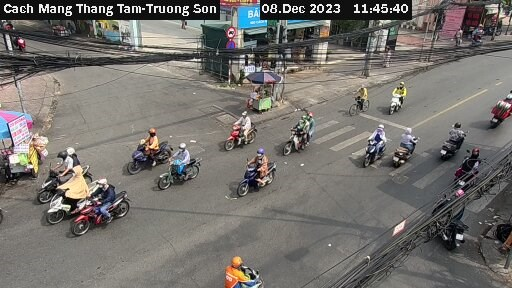motorbike: (414, 185, 477, 254), (64, 182, 137, 238), (233, 152, 284, 199), (213, 252, 271, 288), (35, 154, 93, 188), (123, 129, 173, 167), (159, 150, 204, 190), (220, 113, 261, 151), (282, 117, 318, 157), (482, 84, 512, 126), (359, 123, 389, 164), (386, 126, 419, 163), (46, 181, 88, 210), (450, 155, 489, 186), (434, 121, 465, 158), (381, 86, 414, 115)
